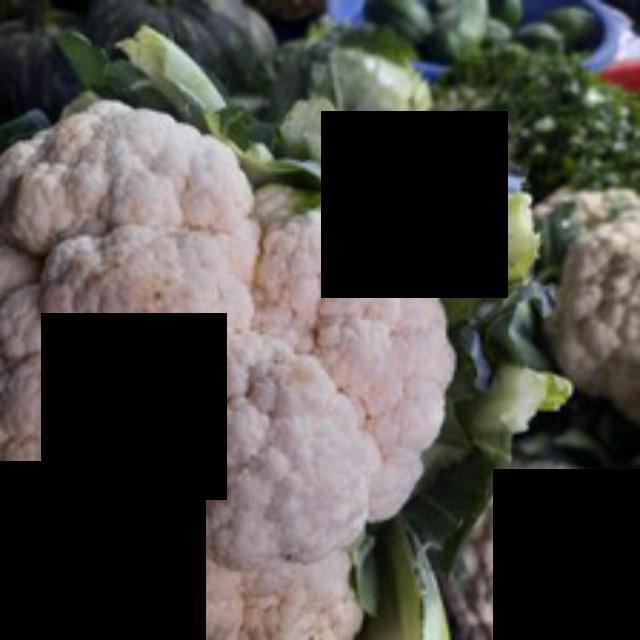cauliflower: (6, 82, 506, 640)
